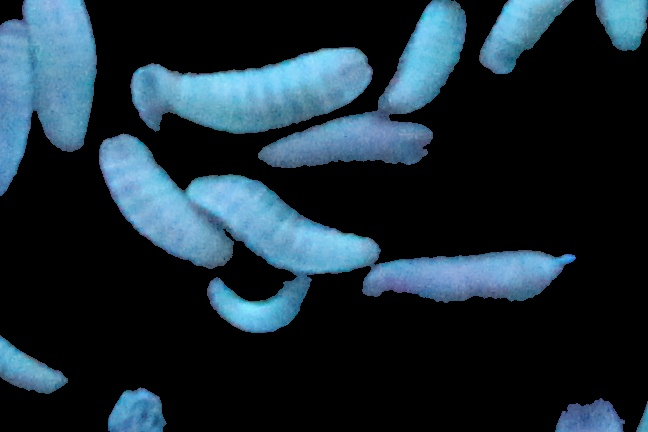larvae: (181, 170, 381, 270), (158, 44, 373, 137), (97, 134, 226, 267), (363, 247, 583, 314), (20, 1, 98, 153), (256, 115, 440, 168), (384, 1, 468, 114), (474, 1, 581, 75), (201, 271, 320, 335), (1, 21, 38, 200), (1, 308, 65, 396)
